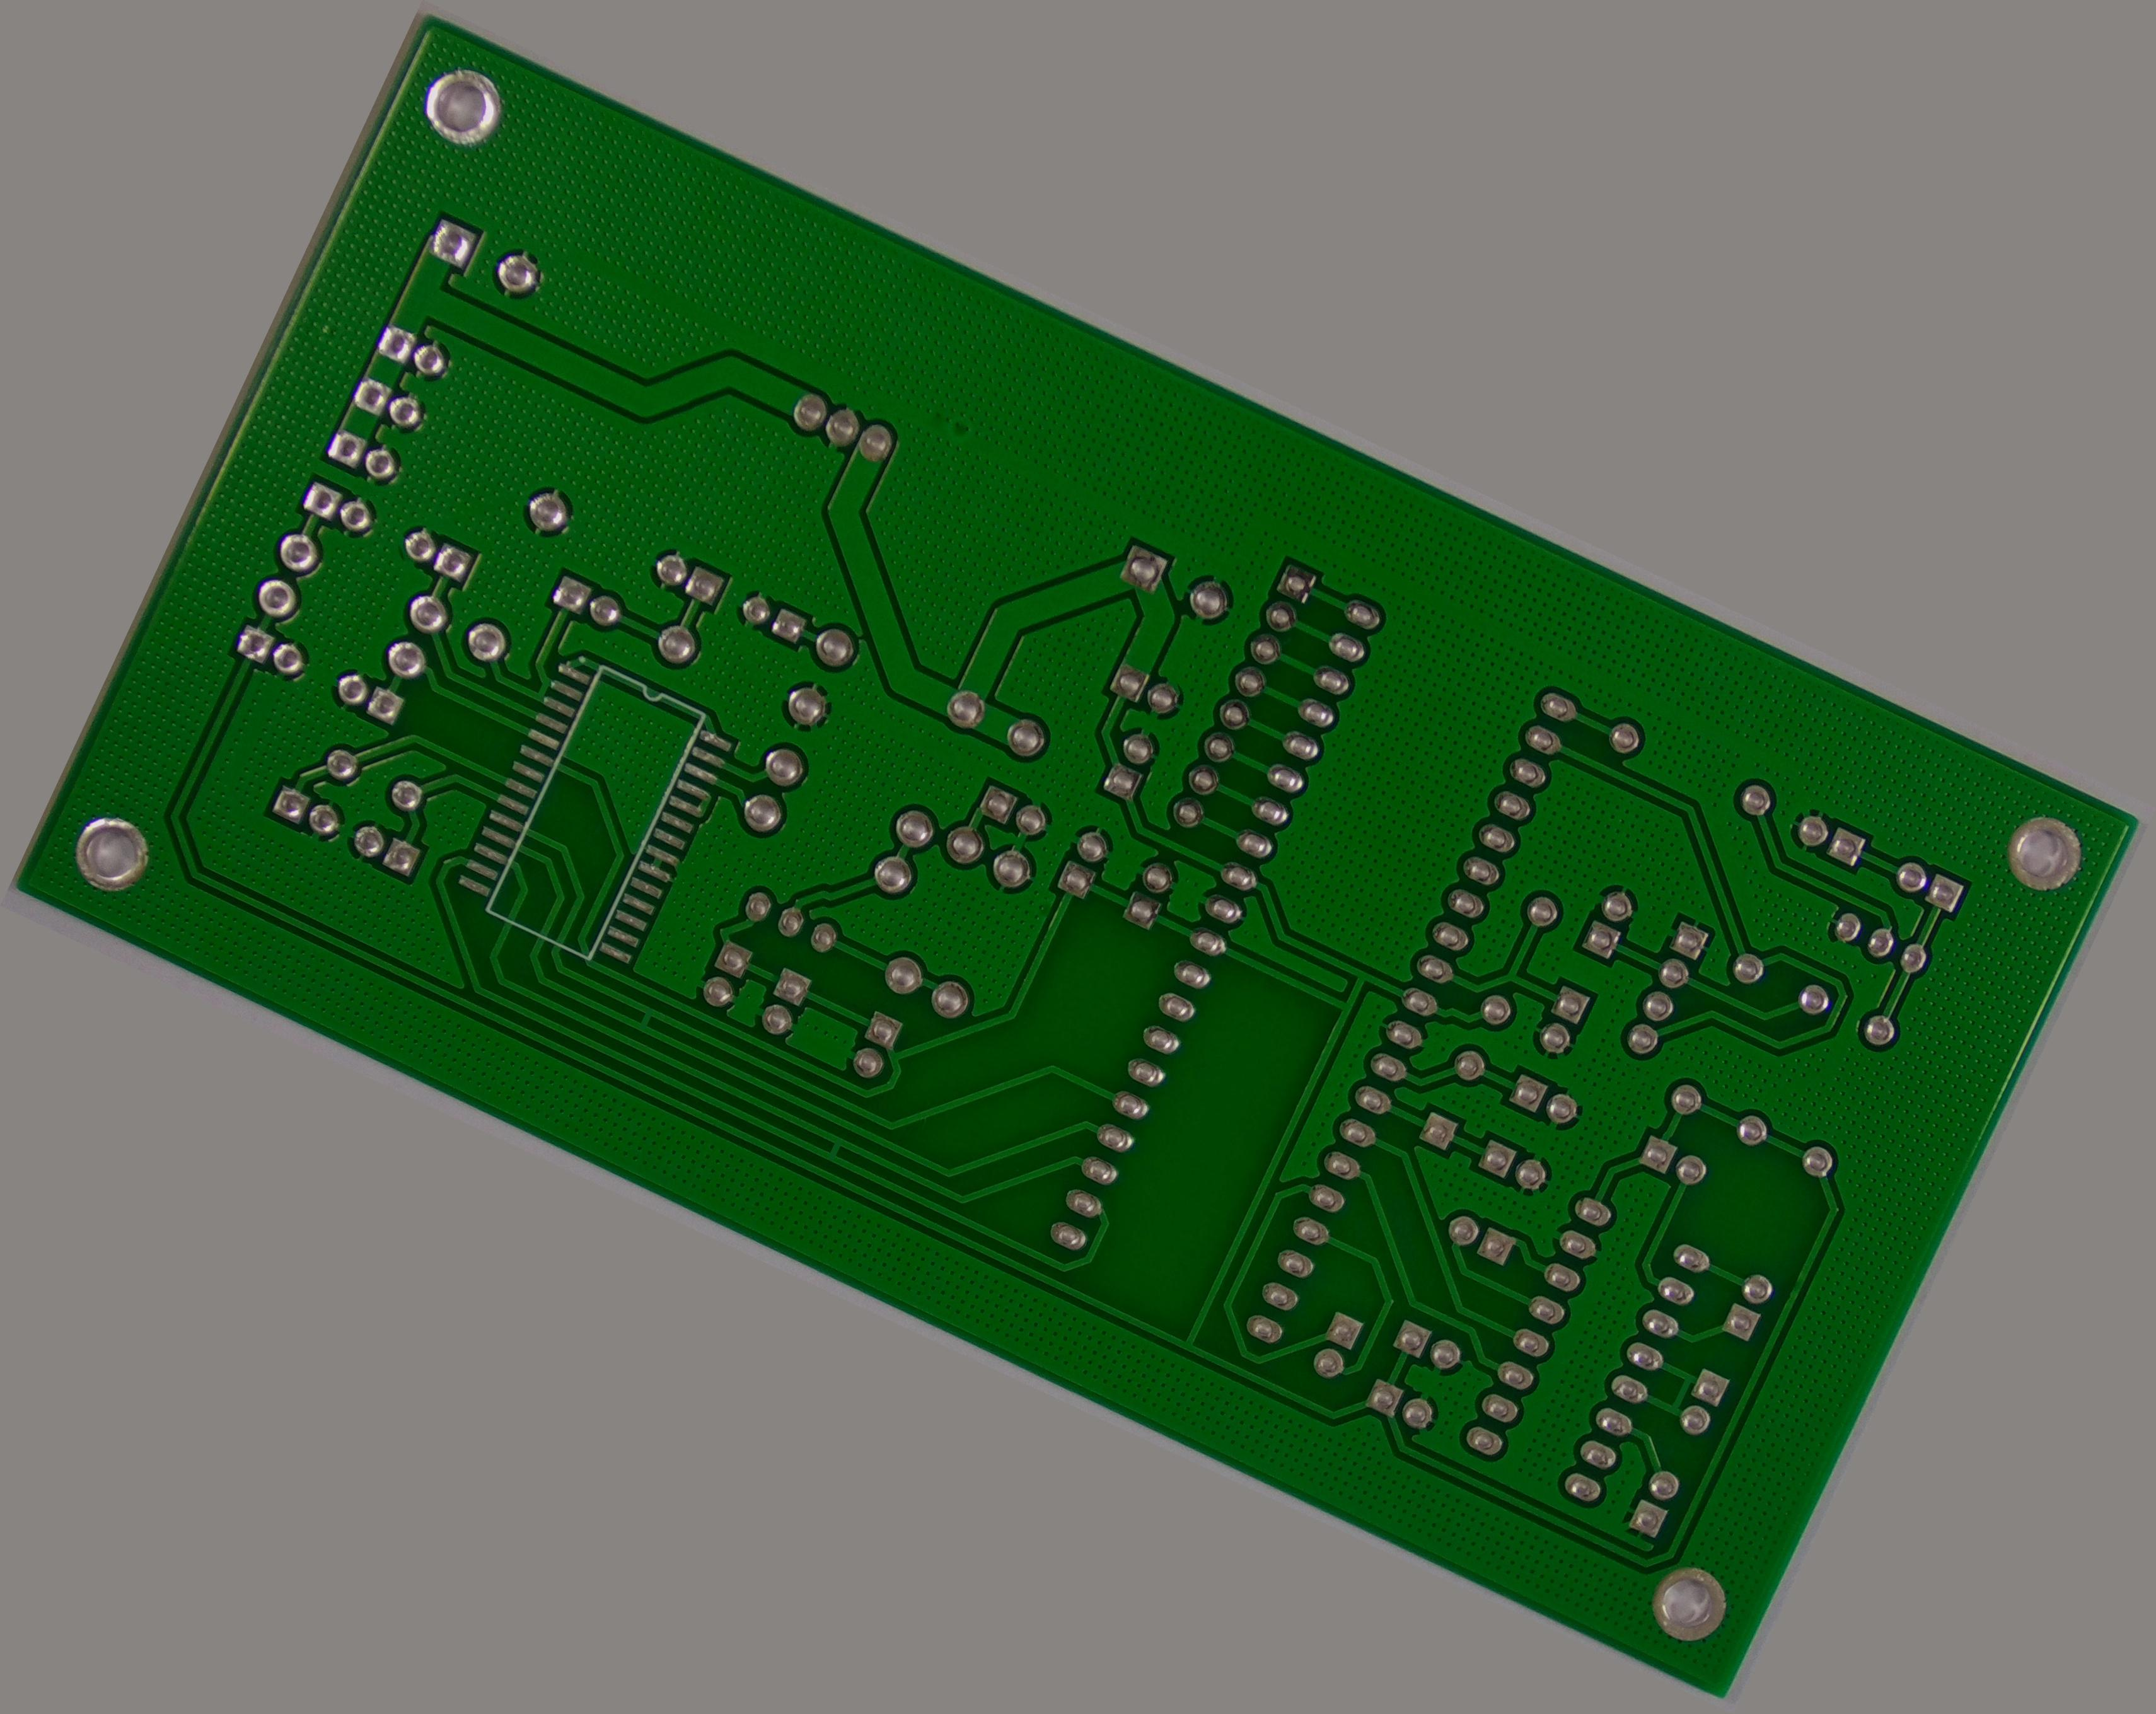short: (1648, 1357, 1720, 1434), (812, 1124, 857, 1170), (625, 1000, 665, 1040), (525, 665, 563, 706)
